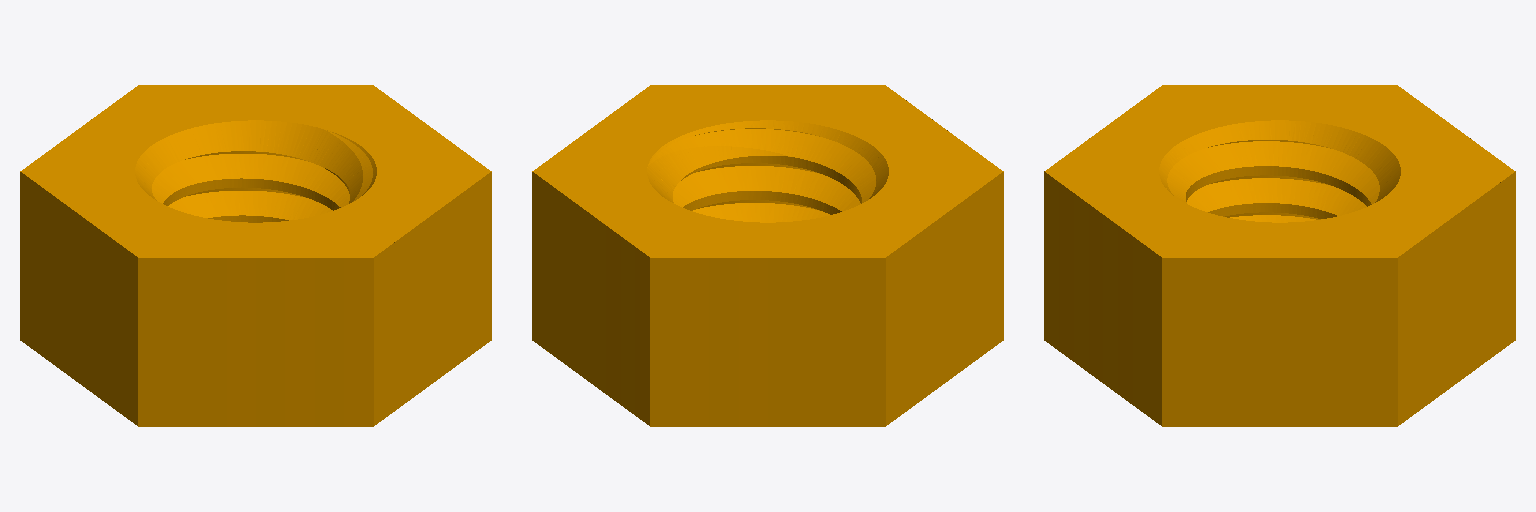
robot.urdf — factory_nut_m4_tight:
<?xml version="1.0"?>
<robot name="factory_nut_m4_tight">
    <link name="factory_nut_m4_tight">
        <visual>
            <geometry>
                <mesh filename="../mesh/factory_nut_bolt/factory_nut_m4_tight_subdiv_3x.obj"/>
            </geometry>
        </visual>
        <collision>
            <geometry>
                <mesh filename="../mesh/factory_nut_bolt/factory_nut_m4_tight_subdiv_3x.obj"/>
            </geometry>
            <sdf resolution="256"/>
        </collision>
    </link>
</robot>

--- What the picture shows (computed from the rendered views, not written in the file) ---
The picture shows the robot from 3 angles, left to right: view 1: azimuth 30°, elevation 25°; view 2: azimuth 150°, elevation 25°; view 3: azimuth 270°, elevation 25°; orthographic projection.
Robot: factory_nut_m4_tight — 1 links, 0 joints (none); root link factory_nut_m4_tight; default pose: all joints at 0.
Links seen in each view (by area): view 1: factory_nut_m4_tight; view 2: factory_nut_m4_tight; view 3: factory_nut_m4_tight.
Link boxes in pixels (x1,y1,x2,y2): factory_nut_m4_tight: (20,85,491,426); factory_nut_m4_tight: (532,85,1003,426); factory_nut_m4_tight: (1044,85,1515,426).
Bounding box of the posed robot: 0.007 × 0.0081 × 0.0032 m (x, y, z).
1 mesh visuals loaded from 1 distinct referenced files (1 OBJ).